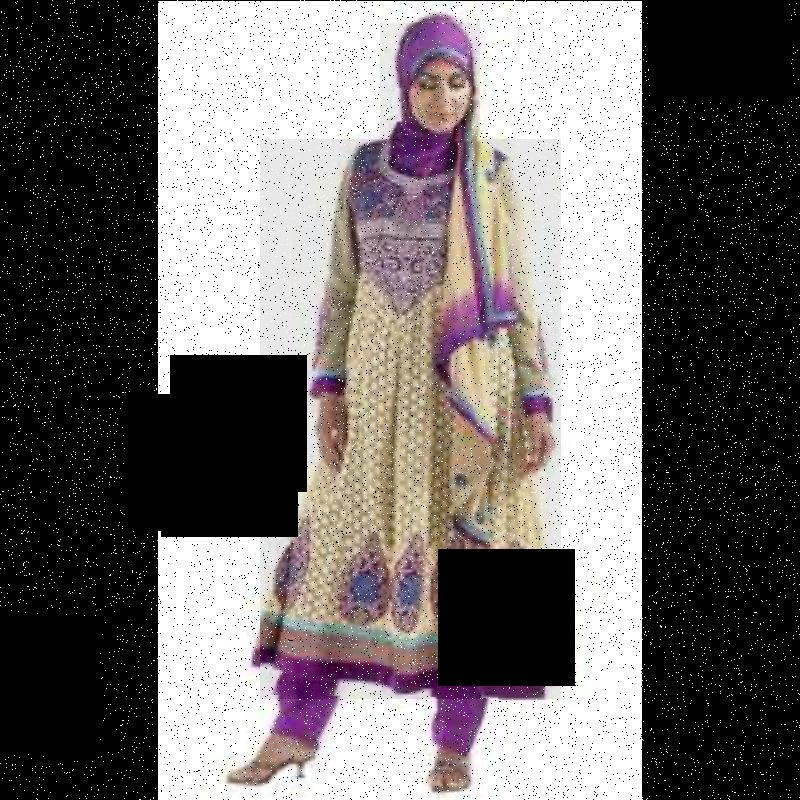Churidaar: (260, 140, 561, 699)
Hijab: (381, 24, 480, 197)
